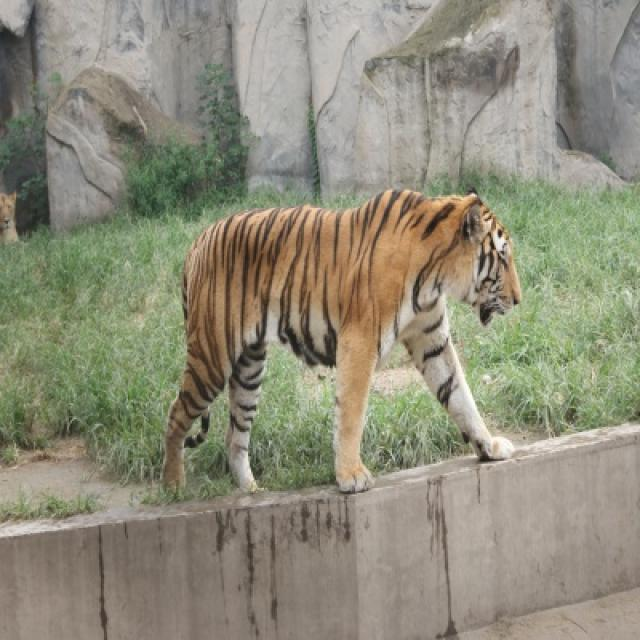Tiger: (160, 182, 526, 503)
